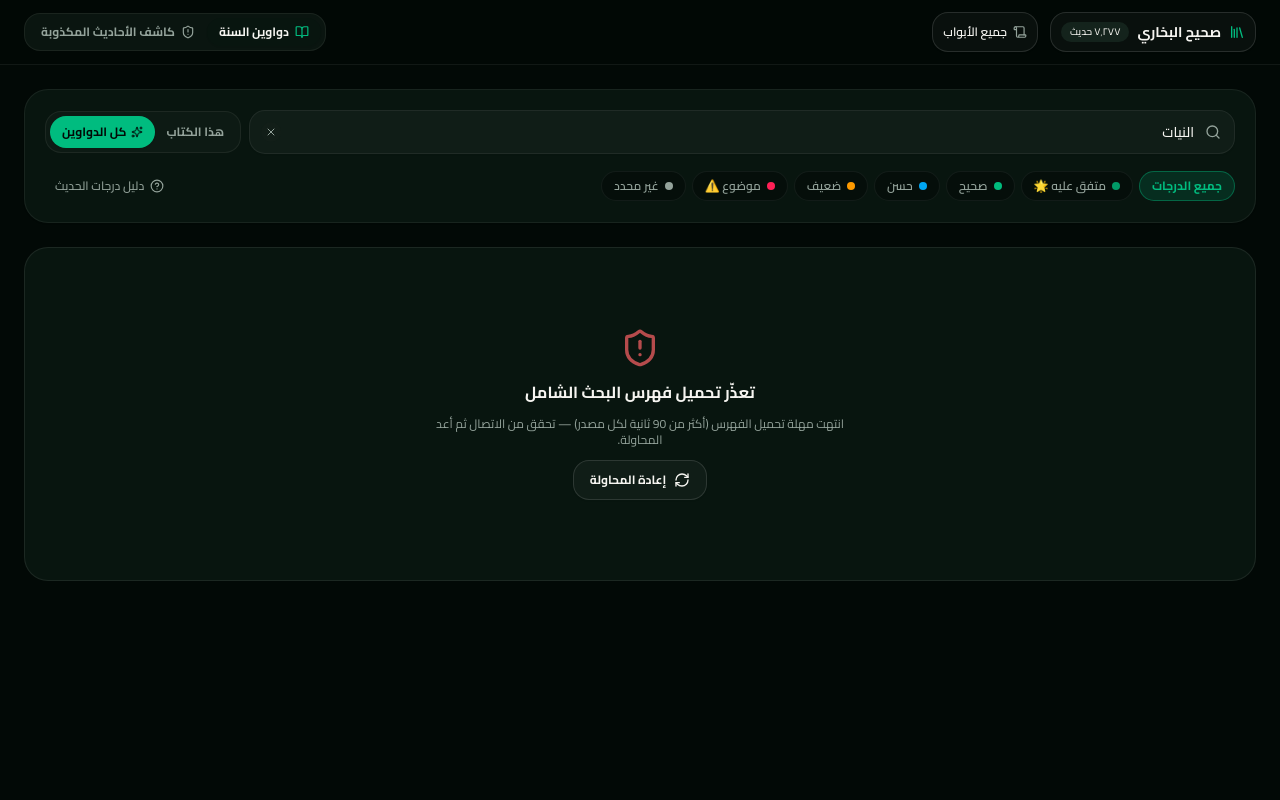
Test: HadithHubView — global search failure → retry → results › shows the error card + retry button on load failure, then renders results on retry success
Click the button "إعادة المحاولة": (640,480) top-left (573, 460), bottom-right (707, 500)
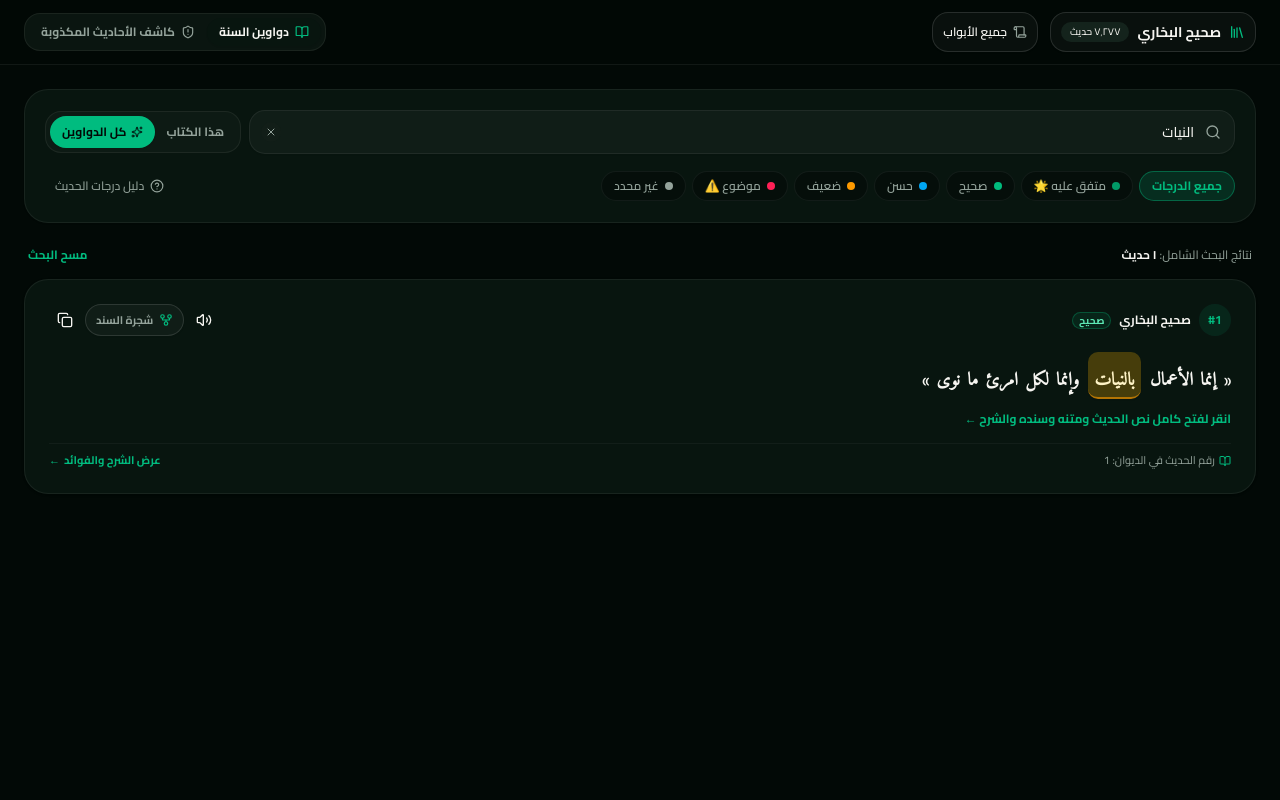
Now the text "تعذّر تحميل فهرس البحث الشامل" is gone
Now the text "نتائج البحث الشامل" is shown, box top-left (1160, 243), bottom-right (1252, 266)
Now the text "إنما الأعمال بالنيات" is shown, box top-left (937, 352), bottom-right (1216, 396)
